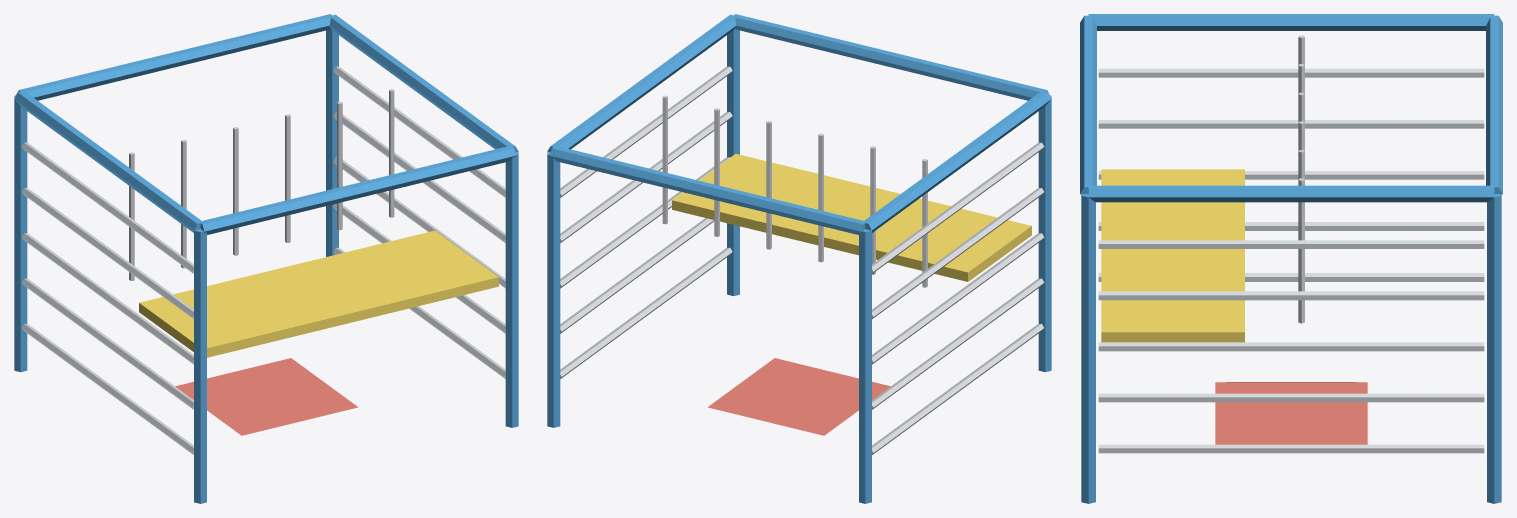
File: 33653-Steel-Climbing-Frame-City-Park-and-Playground.glb
The picture shows the model from 3 angles, left to right: view 1: azimuth 30°, elevation 25°; view 2: azimuth 150°, elevation 25°; view 3: azimuth 270°, elevation 25°; orthographic projection. The views are drawn at different scales.
Visible parts, largest first — view 1: climbing-frame-azure, climbing-frame-sunflower, climbing-frame-steel, climbing-frame-poppy; view 2: climbing-frame-azure, climbing-frame-steel, climbing-frame-sunflower, climbing-frame-poppy; view 3: climbing-frame-steel, climbing-frame-azure, climbing-frame-sunflower, climbing-frame-poppy.
Part boxes in pixels (x1,y1,x2,y2): climbing-frame-azure: (14,14,518,503); climbing-frame-sunflower: (139,230,498,357); climbing-frame-steel: (21,66,505,454); climbing-frame-poppy: (175,358,358,435); climbing-frame-azure: (547,14,1051,503); climbing-frame-steel: (560,66,1044,454); climbing-frame-sunflower: (672,154,1031,281); climbing-frame-poppy: (707,358,890,435); climbing-frame-steel: (1098,35,1484,453); climbing-frame-azure: (1080,14,1502,503); climbing-frame-sunflower: (1101,169,1244,342); climbing-frame-poppy: (1215,382,1367,444).
Bounding box in the file's own units: 2.5 × 2.04 × 2.5.
